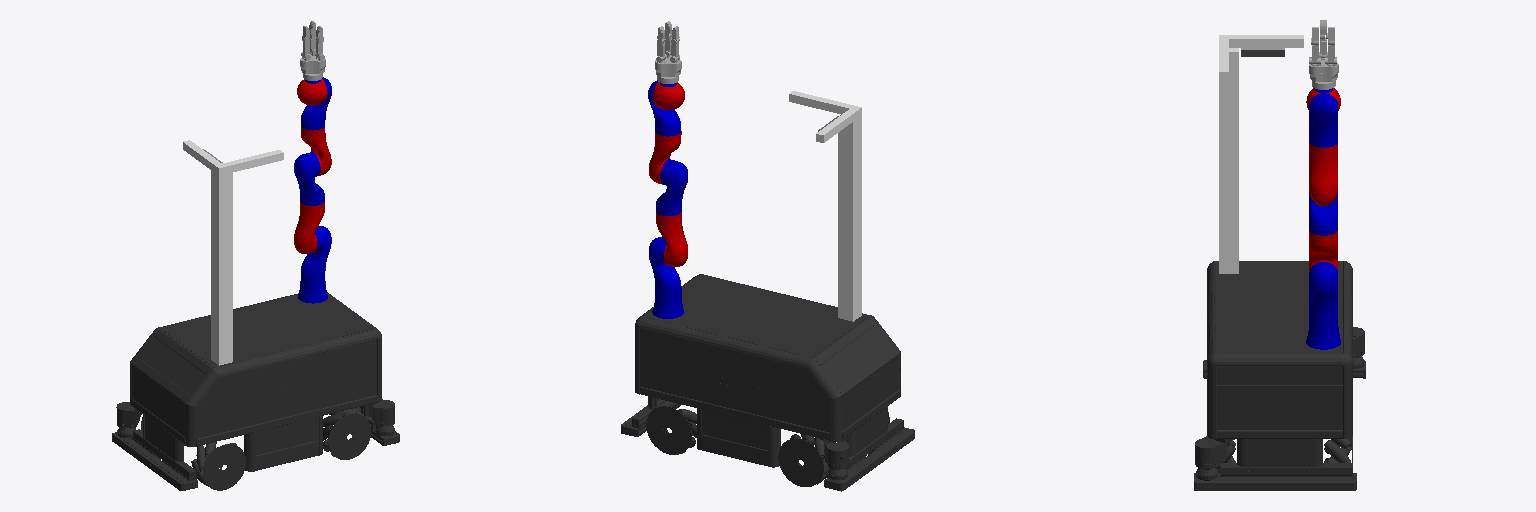
--- Facts derived from the render (not from the file) ---
The picture shows the robot from 3 angles, left to right: view 1: azimuth 30°, elevation 25°; view 2: azimuth 150°, elevation 25°; view 3: azimuth 270°, elevation 25°; orthographic projection.
Model omnirob with 38 links and 37 joints (15 revolute, 1 continuous, 2 prismatic, 19 fixed), rooted at base_link, posed all joints at 0.
Visible links, largest first — view 1: base_box_link, pole_base_link, lbr_3_link, lbr_2_link, lbr_1_link, pole_top_link, lbr_4_link, lbr_5_link, lbr_0_link, lbr_6_link; view 2: base_box_link, pole_base_link, lbr_3_link, lbr_2_link, lbr_1_link, lbr_4_link, lbr_5_link, pole_top_link, lbr_0_link, lbr_6_link, pole_top2_link; view 3: base_box_link, pole_base_link, lbr_1_link, lbr_4_link, lbr_5_link, lbr_3_link, lbr_0_link, lbr_2_link, pole_top2_link, camera_link.
Link boxes in pixels (x1=…): base_box_link: x1=112, y1=292, x2=399, y2=490; pole_base_link: x1=211, y1=171, x2=232, y2=365; lbr_3_link: x1=294, y1=152, x2=324, y2=205; lbr_2_link: x1=294, y1=202, x2=324, y2=253; lbr_1_link: x1=301, y1=226, x2=331, y2=280; pole_top_link: x1=215, y1=150, x2=283, y2=175; lbr_4_link: x1=301, y1=127, x2=331, y2=175; lbr_5_link: x1=301, y1=77, x2=331, y2=130; lbr_0_link: x1=298, y1=277, x2=327, y2=303; lbr_6_link: x1=297, y1=79, x2=327, y2=105; base_box_link: x1=621, y1=274, x2=914, y2=491; pole_base_link: x1=838, y1=116, x2=861, y2=321; lbr_3_link: x1=656, y1=159, x2=687, y2=215; lbr_2_link: x1=656, y1=212, x2=687, y2=266; lbr_1_link: x1=649, y1=237, x2=680, y2=295; lbr_4_link: x1=649, y1=131, x2=681, y2=184; lbr_5_link: x1=648, y1=80, x2=680, y2=136; pole_top_link: x1=789, y1=91, x2=861, y2=117; lbr_0_link: x1=652, y1=288, x2=683, y2=318; lbr_6_link: x1=653, y1=82, x2=684, y2=109; pole_top2_link: x1=816, y1=109, x2=857, y2=142; base_box_link: x1=1194, y1=261, x2=1365, y2=490; pole_base_link: x1=1219, y1=48, x2=1238, y2=273; lbr_1_link: x1=1309, y1=262, x2=1337, y2=323; lbr_4_link: x1=1309, y1=143, x2=1337, y2=205; lbr_5_link: x1=1309, y1=93, x2=1337, y2=147; lbr_3_link: x1=1309, y1=192, x2=1337, y2=235; lbr_0_link: x1=1306, y1=317, x2=1340, y2=349; lbr_2_link: x1=1309, y1=231, x2=1337, y2=271; pole_top2_link: x1=1229, y1=35, x2=1303, y2=47; camera_link: x1=1241, y1=42, x2=1284, y2=56.
Bounding box of the posed robot: 1.2 × 0.712 × 2.1 m (x, y, z).
Meshes: 13 distinct files referenced, 19 mesh visuals loaded (13 binary STL).

URDF robot description (omnirob):
<?xml version="1.0" ?>
<!-- =================================================================================== -->
<!-- |    This document was autogenerated by xacro from omnirob_lbr_sdh2.xacro         | -->
<!-- |    EDITING THIS FILE BY HAND IS NOT RECOMMENDED                                 | -->
<!-- =================================================================================== -->
<robot name="omnirob" xmlns:controller="http://playerstage.sourceforge.net/gazebo/xmlschema/#controller" xmlns:interface="http://playerstage.sourceforge.net/gazebo/xmlschema/#interface" xmlns:sensor="http://playerstage.sourceforge.net/gazebo/xmlschema/#sensor" xmlns:xacro="http://ros.org/wiki/xacro">
  <material name="Blue">
    <color rgba="0.0 0.0 0.8 1.0"/>
  </material>
  <material name="Green">
    <color rgba="0.0 0.8 0.0 1.0"/>
  </material>
  <material name="Grey">
    <color rgba="0.7 0.7 0.7 1.0"/>
  </material>
  <material name="Grey2">
    <color rgba="0.9 0.9 0.9 1.0"/>
  </material>
  <material name="Red">
    <color rgba="0.8 0.0 0.0 1.0"/>
  </material>
  <material name="White">
    <color rgba="1.0 1.0 1.0 1.0"/>
  </material>
  <material name="Black">
    <color rgba="0.0 0.0 0.0 1.0"/>
  </material>
  <material name="pole_gray">
    <color rgba="0.9 0.9 0.9 1.0"/>
  </material>
  <material name="Schunk/LightGrey">
    <color rgba="0.7 0.7 0.7 1.0"/>
  </material>
  <material name="Schunk/DarkGrey">
    <color rgba="0.4 0.4 0.4 1.0"/>
  </material>
  <material name="Schunk/Black">
    <color rgba="0.0 0.0 0.0 1.0"/>
  </material>
  <material name="Schunk/DarkGolden">
    <color rgba="0.4 0.4 0.3 1.0"/>
  </material>
  <material name="Schunk/Blue">
    <color rgba="0.0 0.0 0.8 1.0"/>
  </material>
  <material name="asus_xtion_gray">
    <color rgba="0.6 0.6 0.6 1.0"/>
  </material>
  <material name="Gray">
    <color rgba="0.25 0.25 0.25 1.0"/>
  </material>
  
   <link name="base_link">
    <visual>
      <geometry>
        <sphere radius="0.0"/>
      </geometry>
      <material name="blue">
        <color rgba="0.0 0.0 0.8 1.0"/>
      </material>
    </visual>
  </link>
  
  
   <link name="base_x_link">
    <visual>
      <geometry>
        <sphere radius="0.0"/>
      </geometry>
      <material name="blue">
        <color rgba="0.0 0.0 0.8 1.0"/>
      </material>
    </visual>
  </link>
  
  
  <joint name="base_x_joint" type="prismatic">
    <parent link="base_link"/>
    <child link="base_x_link"/>
	<limit effort="1000.0" lower="-100.0" upper="100.0" velocity="0.5"/> 
	<axis xyz="1 0 0"/>
	<!-- <origin rpy="0 1.57075 0" xyz="0 0 0"/> -->
  </joint>
  
  
   <link name="base_y_link">
    <visual>
      <geometry>
        <sphere radius="0.0"/>
      </geometry>
      <material name="blue">
        <color rgba="0.0 0.0 0.8 1.0"/>
      </material>
    </visual>
  </link>
  
  
  <joint name="base_y_joint" type="prismatic">
    <parent link="base_x_link"/>
    <child link="base_y_link"/>
	<axis xyz="0 1 0"/>
	<limit effort="1000.0" lower="-100.0" upper="100.0" velocity="0.5"/> 
	<!-- <origin rpy="-1.57075 0 0" xyz="0 0 0"/> -->
  </joint>
  
  
   <link name="platform_link">
    <visual>
      <geometry>
        <sphere radius="0.0"/>
      </geometry>
      <material name="blue">
        <color rgba="0.0 0.0 0.8 1.0"/>
      </material>
    </visual>
  </link>
  
  
  <joint name="platform_joint" type="fixed">
    <parent link="base_y_link"/>
    <child link="platform_link"/>
    <limit effort="1000.0" lower="-10.0" upper="10.0" velocity="0.5"/>
    <origin rpy="0 0 0" xyz="0 0 0"/>
  </joint>
  
  
  <link name="base_theta_link">
    <visual>
      <geometry>
        <sphere radius="0.0"/>
      </geometry>
      <material name="blue">
        <color rgba="0.0 0.0 0.8 1.0"/>
      </material>
    </visual>
  </link>
  
  
  <joint name="base_theta_joint" type="continuous">
    <origin rpy="0 0 0" xyz="0 0 0"/>
    <parent link="platform_link"/>
    <child link="base_theta_link"/>
    <axis xyz="0 0 1"/>
	<!-- <limit effort="1000.0" lower="-3.1415" upper="3.1415" velocity="1.9634"/> --> 
  </joint>
  
  
  
   <link name="base_box_link">
    <visual>
      <origin rpy="0 0 0" xyz="0 0 0"/>
      <geometry>
        <mesh filename="package://omnirob_description/meshes/omnirob_hull.stl" scale="0.001 0.001 0.001"/>
      </geometry>
      <material name="Gray"/>
    </visual>
    <collision>
      <origin rpy="0 0 0" xyz="0 0 0"/>
      <geometry>
        <mesh filename="package://omnirob_description/meshes/omnirob_hull_low_res.stl" scale="0.001 0.001 0.001"/>
      </geometry>
    </collision>
  </link>
  
  
   <joint name="base_box_joint" type="fixed">
    <parent link="base_theta_link"/>
    <child link="base_box_link"/>
    <limit effort="1000.0" lower="-10.0" upper="10.0" velocity="0.5"/>
    <origin rpy="0 0 0" xyz="0 0 0"/>
  </joint>
  
  
  <link name="laser_front_link">
        </link>
  <link name="laser_rear_link">
        </link>
  <joint name="laser_front_joint" type="fixed">
    <parent link="base_box_link"/>
    <child link="laser_front_link"/>
    <origin rpy="0 0 -0.78893" xyz="0.542477 -0.317722 0.13664"/>
  </joint>
  <joint name="laser_rear_joint" type="fixed">
    <parent link="base_box_link"/>
    <child link="laser_rear_link"/>
    <origin rpy="0 0 2.31624" xyz="-0.534443 0.32895 0.13664"/>
  </joint>
  <link name="lbr_0_link">
    <inertial>
      <origin rpy="0 0 0" xyz="0 0 0"/>
      <mass value="1.0"/>
      <inertia ixx="0.01" ixy="0" ixz="0" iyy="0.01" iyz="0" izz="0.01"/>
    </inertial>
    <visual>
      <origin rpy="0 0 0" xyz="0 0 0"/>
      <geometry>
        <mesh filename="package://omnirob_description/meshes/lbr0.stl"/>
      </geometry>
      <material name="Blue"/>
    </visual>
    <collision>
      <origin rpy="0 0 0" xyz="0 0 0"/>
      <geometry>
        <mesh filename="package://omnirob_description/meshes/lbr0_low_res.stl"/>
      </geometry>
    </collision>
  </link>
  <joint name="lbr_1_joint" type="revolute">
    <!--<origin xyz="0 0 0.14" rpy="0 0 -2.8407"/> -->
    <origin rpy="0 0 0" xyz="0 0 0.1105"/>
    <parent link="lbr_0_link"/>
    <child link="lbr_1_link"/>
    <axis xyz="0 0 1"/>
    <dynamics damping="25"/>
    <limit effort="200" lower="-2.9670" upper="2.9670" velocity="1.9634"/>
  </joint>
  <link name="lbr_1_link">
    <inertial>
      <origin rpy="0 0 0" xyz="0 0 0"/>
      <mass value="5.9907"/>
      <inertia ixx="0.01" ixy="0" ixz="0" iyy="0.01" iyz="0" izz="0.01"/>
    </inertial>
    <visual>
      <origin rpy="0 0 0" xyz="0 0 0"/>
      <geometry>
        <mesh filename="package://omnirob_description/meshes/lbr1.stl"/>
      </geometry>
      <material name="Blue"/>
    </visual>
    <collision>
      <origin rpy="0 0 0" xyz="0 0 0"/>
      <geometry>
        <mesh filename="package://omnirob_description/meshes/lbr1_low_res.stl"/>
      </geometry>
    </collision>
  </link>
  <joint name="lbr_2_joint" type="revolute">
    <origin rpy="1.5708 0 0" xyz="0 0 0.1915"/>
    <parent link="lbr_1_link"/>
    <child link="lbr_2_link"/>
    <axis xyz="0 0 1"/>
    <dynamics damping="25"/>
    <limit effort="200" lower="-2.0943" upper="2.0943" velocity="1.9634"/>
  </joint>
  <link name="lbr_2_link">
    <inertial>
      <origin rpy="0 0 0" xyz="0 0 0.002"/>
      <mass value="5.734939"/>
      <inertia ixx="0.03" ixy="0" ixz="0" iyy="0.03" iyz="0" izz="0.03"/>
    </inertial>
    <visual>
      <origin rpy="0 0 0" xyz="0 0 0.002"/>
      <geometry>
        <mesh filename="package://omnirob_description/meshes/lbr2.stl"/>
      </geometry>
      <material name="Red"/>
    </visual>
    <collision>
      <origin rpy="0 0 0" xyz="0 0 0.002"/>
      <geometry>
        <mesh filename="package://omnirob_description/meshes/lbr2_low_res.stl"/>
      </geometry>
    </collision>
  </link>
  <joint name="lbr_3_joint" type="revolute">
    <origin rpy="-1.5708 0 0" xyz="0 0.2085 0"/>
    <parent link="lbr_2_link"/>
    <child link="lbr_3_link"/>
    <axis xyz="0 0 1"/>
    <dynamics damping="25"/>
    <limit effort="100" lower="-2.9670" upper="2.9670" velocity="1.9634"/>
  </joint>
  <link name="lbr_3_link">
    <inertial>
      <origin rpy="0 0 0" xyz="0 -0.002 0"/>
      <mass value="4.214668"/>
      <inertia ixx="0.03" ixy="0" ixz="0" iyy="0.03" iyz="0" izz="0.03"/>
    </inertial>
    <visual>
      <origin rpy="0 0 0" xyz="0 -0.002 0"/>
      <geometry>
        <mesh filename="package://omnirob_description/meshes/lbr3.stl"/>
      </geometry>
      <material name="Blue"/>
    </visual>
    <collision>
      <origin rpy="0 0 0" xyz="0 -0.002 0"/>
      <geometry>
        <mesh filename="package://omnirob_description/meshes/lbr3_low_res.stl"/>
      </geometry>
    </collision>
  </link>
  <joint name="lbr_4_joint" type="revolute">
    <origin rpy="-1.5708 0 0" xyz="0 0 0.1915"/>
    <parent link="lbr_3_link"/>
    <child link="lbr_4_link"/>
    <axis xyz="0 0 1"/>
    <dynamics damping="25"/>
    <limit effort="100" lower="-2.0943" upper="2.0943" velocity="1.9634"/>
  </joint>
  <link name="lbr_4_link">
    <inertial>
      <origin rpy="0 0 0" xyz="0 0 0"/>
      <mass value="3.669819"/>
      <inertia ixx="0.03" ixy="0" ixz="0" iyy="0.03" iyz="0" izz="0.03"/>
    </inertial>
    <visual>
      <origin rpy="0 0 0" xyz="0 0 0"/>
      <geometry>
        <mesh filename="package://omnirob_description/meshes/lbr4.stl"/>
      </geometry>
      <material name="Red"/>
    </visual>
    <collision>
      <origin rpy="0 0 0" xyz="0 0 0"/>
      <geometry>
        <mesh filename="package://omnirob_description/meshes/lbr4_low_res.stl"/>
      </geometry>
    </collision>
  </link>
  <joint name="lbr_5_joint" type="revolute">
    <origin rpy="1.5708 0 0" xyz="0 -0.2085 0"/>
    <parent link="lbr_4_link"/>
    <child link="lbr_5_link"/>
    <axis xyz="0 0 1"/>
    <dynamics damping="25"/>
    <limit effort="100" lower="-2.9670" upper="2.9670" velocity="3.1415926"/>
  </joint>
  <link name="lbr_5_link">
    <inertial>
      <origin rpy="0 0 0" xyz="0 0 0"/>
      <mass value="2.313272"/>
      <inertia ixx="0.03" ixy="0" ixz="0" iyy="0.03" iyz="0" izz="0.03"/>
    </inertial>
    <visual>
      <origin rpy="0 0 0" xyz="0 0 0"/>
      <geometry>
        <mesh filename="package://omnirob_description/meshes/lbr5.stl"/>
      </geometry>
      <material name="Blue"/>
    </visual>
    <collision>
      <origin rpy="0 0 0" xyz="0 0 0"/>
      <geometry>
        <mesh filename="package://omnirob_description/meshes/lbr5_low_res.stl"/>
      </geometry>
    </collision>
  </link>
  <joint name="lbr_6_joint" type="revolute">
    <origin rpy="1.5708 0 0" xyz="0 0 0.1815"/>
    <parent link="lbr_5_link"/>
    <child link="lbr_6_link"/>
    <axis xyz="0 0 1"/>
    <dynamics damping="25"/>
    <limit effort="30" lower="-2.0943951" upper="2.0943951" velocity="1.9634"/>
  </joint>
  <link name="lbr_6_link">
    <inertial>
      <origin rpy="0 0 0" xyz="0 0 0"/>
      <mass value="2.057856"/>
      <inertia ixx="0.01" ixy="0" ixz="0" iyy="0.01" iyz="0" izz="0.01"/>
    </inertial>
    <visual>
      <origin rpy="0 0 0" xyz="0 0 -0.046"/>
      <geometry>
        <mesh filename="package://omnirob_description/meshes/lbr6.stl"/>
      </geometry>
      <material name="Red"/>
    </visual>
    <collision>
      <origin rpy="0 0 0" xyz="0 0 -0.046"/>
      <geometry>
        <mesh filename="package://omnirob_description/meshes/lbr6_low_res.stl"/>
      </geometry>
    </collision>
  </link>
  <joint name="lbr_7_joint" type="revolute">
    <origin rpy="-1.5708 0 0" xyz="0 0.057 0"/>
    <parent link="lbr_6_link"/>
    <child link="lbr_7_link"/>
    <axis xyz="0 0 1"/>
    <dynamics damping="25"/>
    <limit effort="30" lower="-2.9670" upper="2.9670" velocity="1.9634"/>
  </joint>
  <link name="lbr_7_link">
    <inertial>
      <origin rpy="0 0 0" xyz="0 0 0"/>
      <mass value="1.120198"/>
      <inertia ixx="0.01" ixy="0" ixz="0" iyy="0.01" iyz="0" izz="0.01"/>
    </inertial>
    <visual>
      <origin rpy="0 0 0" xyz="0 0 0"/>
      <geometry>
        <mesh filename="package://omnirob_description/meshes/lbr7.stl"/>
      </geometry>
      <material name="Blue"/>
    </visual>
    <collision>
      <origin rpy="0 0 0" xyz="0 0 0"/>
      <geometry>
        <mesh filename="package://omnirob_description/meshes/lbr7_low_res.stl"/>
      </geometry>
    </collision>
  </link>
  <joint name="flange" type="fixed">
    <parent link="lbr_7_link"/>
    <child link="lbr_flange_link"/>
    <origin rpy="0 0 0" xyz="0 0 0.0195"/>
  </joint>
  <link name="lbr_flange_link">
	<visual>
      <geometry>
        <sphere radius="0.01"/>
      </geometry>
      <material name="blue">
        <color rgba="0.0 0.0 0.8 1.0"/>
      </material>
    </visual>
	<collision>
      <geometry>
        <sphere radius="0.01"/>
      </geometry>
    </collision>
  </link>
  <joint name="omnirob_base_joint" type="fixed">
    <origin rpy="0 0 -1.5708" xyz="0.42 0.18 0.655"/>
    <parent link="base_box_link"/>
    <child link="lbr_0_link"/>
  </joint>
  <joint name="pole_base_joint" type="fixed">
    <origin rpy="0 0 0" xyz="-0.35 -0.25 0.64"/>
    <parent link="base_box_link"/>
    <child link="pole_base_link"/>
  </joint>
  <link name="pole_base_link">
    <visual>
      <geometry>
        <box size="0.08 0.08 1.01"/>
      </geometry>
      <origin xyz="0.04 0.04 0.505"/>
      <material name="pole_gray"/>
    </visual>
    <collision>
      <geometry>
        <box size="0.08 0.08 1.01"/>
      </geometry>
      <origin xyz="0.04 0.04 0.505"/>
    </collision>
  </link>
  <joint name="pole_top_joint" type="fixed">
    <parent link="pole_base_link"/>
    <child link="pole_top_link"/>
    <origin rpy="0 0 0" xyz="0 0 1.01"/>
  </joint>
  <link name="pole_top_link">
    <visual>
      <geometry>
        <box size="0.36 0.04 0.04"/>
      </geometry>
      <origin xyz="0.18 0.02 0.02"/>
      <material name="pole_gray"/>
    </visual>
    <collision>
      <geometry>
        <box size="0.36 0.04 0.04"/>
      </geometry>
      <origin xyz="0.18 0.02 0.02"/>
    </collision>
  </link>
  <joint name="pole_top2_joint" type="fixed">
    <parent link="pole_base_link"/>
    <child link="pole_top2_link"/>
    <origin rpy="0 0 1.57" xyz="0.04 0.04 1.01"/>
  </joint>
  <link name="pole_top2_link">
    <visual>
      <geometry>
        <box size="0.31 0.04 0.04"/>
      </geometry>
      <origin xyz="0.155 0.02 0.02"/>
      <material name="pole_gray"/>
    </visual>
    <collision>
      <geometry>
        <box size="0.31 0.04 0.04"/>
      </geometry>
      <origin xyz="0.155 0.02 0.02"/>
    </collision>
  </link>
  <joint name="camera_base_joint" type="fixed">
    <parent link="pole_top2_link"/>
    <child link="camera_link"/>
    <origin rpy="0 0.5 -1.57" xyz="0.14 -0.01 0"/>
  </joint>
  <link name="camera_depth_frame"/>
  <link name="camera_rgb_frame"/>
  <link name="camera_depth_optical_frame"/>
  <link name="camera_rgb_optical_frame"/>
  <link name="camera_link">
    <visual>
      <geometry>
        <box size="0.04 0.18 0.048"/>
      </geometry>
      <origin xyz="0 0 0"/>
      <material name="asus_xtion_gray"/>
    </visual>
    <collision>
      <geometry>
        <box size="0.04 0.18 0.048"/>
      </geometry>
      <origin xyz="0 0 0"/>
    </collision>
  </link>
  <joint name="camera_joint1" type="fixed">
    <parent link="camera_link"/>
    <child link="camera_depth_frame"/>
    <origin rpy="0 0 0" xyz="0 0.049 0.013"/>
  </joint>
  <joint name="camera_joint2" type="fixed">
    <parent link="camera_link"/>
    <child link="camera_rgb_frame"/>
    <origin rpy="0 0 0" xyz="0 0.022 0.013"/>
  </joint>
  <joint name="camera_joint3" type="fixed">
    <parent link="camera_depth_frame"/>
    <child link="camera_depth_optical_frame"/>
    <origin rpy="-1.57 0 -1.57" xyz="0 0 0"/>
  </joint>
  <joint name="camera_joint4" type="fixed">
    <parent link="camera_rgb_frame"/>
    <child link="camera_rgb_optical_frame"/>
    <origin rpy="-1.57 0 -1.57" xyz="0 0 0"/>
  </joint>
  
  	<link name="sdh_adapter_link">
		<visual>
			<geometry>
				<cylinder length="0.027" radius="0.05" />
			</geometry>
			<material name="Grey" />
		</visual>
		<collision>
			<geometry>
				<cylinder length="0.027" radius="0.05" />
			</geometry>
		</collision>
	</link>

	<joint name="adapter_lbr_joint" type="fixed">
		<!--parent link="lbr_flange_link" / -->
		<parent link="lbr_flange_link" />
		<child link="sdh_adapter_link" />
		<!--insert_block name="origin"/ -->
		<!--origin xyz="0.0 0.0 0.0725" rpy="0 0 0"/ -->
		<!--<origin rpy="0 0 0" xyz="0.0 0.005 0.171"/> -->
		<origin rpy="0 0 0" xyz="0.0 0.0 0.0135" />
	</joint>
	
	<joint name="adapter_sdh_joint" type="fixed">
		<!--parent link="lbr_flange_link" / -->
		<parent link="sdh_adapter_link" />
		<child link="sdh2_palm_link" />
		<!--insert_block name="origin"/ -->
		<!--origin xyz="0.0 0.0 0.0725" rpy="0 0 0"/ -->
		<!--<origin rpy="0 0 0" xyz="0.0 0.005 0.171"/> -->
		<origin rpy="0 0 1.57079632679" xyz="0.0 0.0 0.0135" />
	</joint>
  
  <link name="sdh2_palm_link">
    <inertial>
      <origin rpy="0 0 0" xyz="0 0 0"/>
      <mass value="1"/>
      <inertia ixx="0.01" ixy="0" ixz="0" iyy="0.01" iyz="0" izz="0.01"/>
    </inertial>
    <visual>
      <origin rpy="0 0 0" xyz="0 0 0"/>
      <geometry>
        <mesh filename="package://sdh2_description/meshes/palm.stl"/>
      </geometry>
      <material name="Schunk/LightGrey"/>
    </visual>
    <collision>
      <origin rpy="0 0 0" xyz="0 0 0"/>
      <geometry>
        <mesh filename="package://sdh2_description/meshes/palm_low_res.stl"/>
      </geometry>
    </collision>
  </link>
  <joint name="sdh2_grasp_joint" type="fixed">
    <origin rpy="0 0 0" xyz="-0.02 0 0.15"/>
    <parent link="sdh2_palm_link"/>
    <child link="sdh2_grasp_link"/>
  </joint>
  <link name="sdh2_grasp_link"/>
  <joint name="sdh2_tip_joint" type="fixed">
    <origin rpy="0 0 0" xyz="0 0 0.22"/>
    <parent link="sdh2_palm_link"/>
    <child link="sdh2_tip_link"/>
  </joint>
  <link name="sdh2_tip_link"/>
  <joint name="sdh2_knuckle_joint" type="revolute">
    <origin rpy="0 0 3.14159265" xyz="0.01905 0.033 0.0745"/>
    <parent link="sdh2_palm_link"/>
    <child link="sdh2_finger_11_link"/>
    <axis xyz="0 0 1"/>
    <dynamics damping="1"/>
    <limit effort="100" lower="0" upper="1.570796327" velocity="5"/>
  </joint>
  <link name="sdh2_finger_11_link">
    <inertial>
      <origin rpy="0 0 0" xyz="0 0 0"/>
      <mass value="0.1"/>
      <inertia ixx="0.01" ixy="0" ixz="0" iyy="0.01" iyz="0" izz="0.01"/>
    </inertial>
    <visual>
      <origin rpy="0 0 0" xyz="0 0 0"/>
      <geometry>
        <mesh filename="package://sdh2_description/meshes/knuckle.stl"/>
      </geometry>
      <material name="Schunk/LightGrey"/>
    </visual>
    <collision>
      <origin rpy="0 0 0" xyz="0 0 0"/>
      <geometry>
        <mesh filename="package://sdh2_description/meshes/knuckle_low_res.stl"/>
      </geometry>
    </collision>
  </link>
  <joint name="sdh2_finger_12_joint" type="revolute">
    <origin rpy="0 0 0" xyz="0 0 0.0165"/>
    <parent link="sdh2_finger_11_link"/>
    <child link="sdh2_finger_12_link"/>
    <axis xyz="0 1 0"/>
    <dynamics damping="1"/>
    <limit effort="100" lower="-1.570796327" upper="1.570796327" velocity="5"/>
  </joint>
  <link name="sdh2_finger_12_link">
    <inertial>
      <origin rpy="0 0 0" xyz="0 0 0"/>
      <mass value="0.1"/>
      <inertia ixx="0.01" ixy="0" ixz="0" iyy="0.01" iyz="0" izz="0.01"/>
    </inertial>
    <visual>
      <origin rpy="0 0 0" xyz="0 0 0"/>
      <geometry>
        <mesh filename="package://sdh2_description/meshes/finger.stl"/>
      </geometry>
      <material name="Schunk/LightGrey"/>
    </visual>
    <collision>
      <origin rpy="0 0 0" xyz="0 0 0"/>
      <geometry>
        <mesh filename="package://sdh2_description/meshes/finger_low_res.stl"/>
      </geometry>
    </collision>
  </link>
  <joint name="sdh2_finger_13_joint" type="revolute">
    <origin rpy="0 0 0" xyz="0 0 0.0865"/>
    <parent link="sdh2_finger_12_link"/>
    <child link="sdh2_finger_13_link"/>
    <axis xyz="0 1 0"/>
    <dynamics damping="1"/>
    <limit effort="100" lower="-1.570796327" upper="1.570796327" velocity="5"/>
  </joint>
  <link name="sdh2_finger_13_link">
    <inertial>
      <origin rpy="0 0 0" xyz="0 0 0"/>
      <mass value="0.1"/>
      <inertia ixx="0.01" ixy="0" ixz="0" iyy="0.01" iyz="0" izz="0.01"/>
    </inertial>
    <visual>
      <origin rpy="0 0 0" xyz="0 0 0"/>
      <geometry>
        <mesh filename="package://sdh2_description/meshes/finger_tip.stl"/>
      </geometry>
      <material name="Schunk/LightGrey"/>
    </visual>
    <collision>
      <origin rpy="0 0 0" xyz="0 0 0"/>
      <geometry>
        <mesh filename="package://sdh2_description/meshes/finger_tip_low_res.stl"/>
      </geometry>
    </collision>
  </link>
  <joint name="sdh2_finger_21_joint" type="revolute">
    <mimic joint="sdh2_knuckle_joint" multiplier="1" offset="0"/>
    <origin rpy="0 0 3.14159265" xyz="0.01905 -0.033 0.0745"/>
    <parent link="sdh2_palm_link"/>
    <child link="sdh2_finger_21_link"/>
    <axis xyz="0 0 -1"/>
    <dynamics damping="1"/>
    <limit effort="100" lower="0" upper="1.570796327" velocity="5"/>
  </joint>
  <link name="sdh2_finger_21_link">
    <inertial>
      <origin rpy="0 0 0" xyz="0 0 0"/>
      <mass value="0.1"/>
      <inertia ixx="0.01" ixy="0" ixz="0" iyy="0.01" iyz="0" izz="0.01"/>
    </inertial>
    <visual>
      <origin rpy="0 0 0" xyz="0 0 0"/>
      <geometry>
        <mesh filename="package://sdh2_description/meshes/knuckle.stl"/>
      </geometry>
      <material name="Schunk/LightGrey"/>
    </visual>
    <collision>
      <origin rpy="0 0 0" xyz="0 0 0"/>
      <geometry>
        <mesh filename="package://sdh2_description/meshes/knuckle_low_res.stl"/>
      </geometry>
    </collision>
  </link>
  <joint name="sdh2_finger_22_joint" type="revolute">
    <origin rpy="0 0 0" xyz="0 0 0.0165"/>
    <parent link="sdh2_finger_21_link"/>
    <child link="sdh2_finger_22_link"/>
    <axis xyz="0 1 0"/>
    <dynamics damping="1"/>
    <limit effort="100" lower="-1.570796327" upper="1.570796327" velocity="5"/>
  </joint>
  <link name="sdh2_finger_22_link">
    <inertial>
      <origin rpy="0 0 0" xyz="0 0 0"/>
      <mass value="0.1"/>
      <inertia ixx="0.01" ixy="0" ixz="0" iyy="0.01" iyz="0" izz="0.01"/>
    </inertial>
    <visual>
      <origin rpy="0 0 0" xyz="0 0 0"/>
      <geometry>
        <mesh filename="package://sdh2_description/meshes/finger.stl"/>
      </geometry>
      <material name="Schunk/LightGrey"/>
    </visual>
    <collision>
      <origin rpy="0 0 0" xyz="0 0 0"/>
      <geometry>
        <mesh filename="package://sdh2_description/meshes/finger_low_res.stl"/>
      </geometry>
    </collision>
  </link>
  <joint name="sdh2_finger_23_joint" type="revolute">
    <origin rpy="0 0 0" xyz="0 0 0.0865"/>
    <parent link="sdh2_finger_22_link"/>
    <child link="sdh2_finger_23_link"/>
    <axis xyz="0 1 0"/>
    <dynamics damping="1"/>
    <limit effort="100" lower="-1.570796327" upper="1.570796327" velocity="5"/>
  </joint>
  <link name="sdh2_finger_23_link">
    <inertial>
      <origin rpy="0 0 0" xyz="0 0 0"/>
      <mass value="0.1"/>
      <inertia ixx="0.01" ixy="0" ixz="0" iyy="0.01" iyz="0" izz="0.01"/>
    </inertial>
    <visual>
      <origin rpy="0 0 0" xyz="0 0 0"/>
      <geometry>
        <mesh filename="package://sdh2_description/meshes/finger_tip.stl"/>
      </geometry>
      <material name="Schunk/LightGrey"/>
    </visual>
    <collision>
      <origin rpy="0 0 0" xyz="0 0 0"/>
      <geometry>
        <mesh filename="package://sdh2_description/meshes/finger_tip_low_res.stl"/>
      </geometry>
    </collision>
  </link>
  <joint name="sdh2_thumb_1_joint" type="fixed">
    <origin rpy="0 0 0" xyz="-0.03811 0 0.0745 "/>
    <parent link="sdh2_palm_link"/>
    <child link="sdh2_thumb_1_link"/>
  </joint>
  <link name="sdh2_thumb_1_link">
    <inertial>
      <origin rpy="0 0 0" xyz="0 0 0"/>
      <mass value="0.1"/>
      <inertia ixx="0.01" ixy="0" ixz="0" iyy="0.01" iyz="0" izz="0.01"/>
    </inertial>
    <visual>
      <origin rpy="0 0 0" xyz="0 0 0"/>
      <geometry>
        <mesh filename="package://sdh2_description/meshes/knuckle.stl"/>
      </geometry>
      <material name="Schunk/LightGrey"/>
    </visual>
    <collision>
      <origin rpy="0 0 0" xyz="0 0 0"/>
      <geometry>
        <mesh filename="package://sdh2_description/meshes/knuckle_low_res.stl"/>
      </geometry>
    </collision>
  </link>
  <joint name="sdh2_thumb_2_joint" type="revolute">
    <origin rpy="0 0 0" xyz="0 0 0.0165"/>
    <parent link="sdh2_thumb_1_link"/>
    <child link="sdh2_thumb_2_link"/>
    <axis xyz="0 1 0"/>
    <dynamics damping="1"/>
    <limit effort="100" lower="-1.570796327" upper="1.570796327" velocity="5"/>
  </joint>
  <link name="sdh2_thumb_2_link">
    <inertial>
      <origin rpy="0 0 0" xyz="0 0 0"/>
      <mass value="0.1"/>
      <inertia ixx="0.01" ixy="0" ixz="0" iyy="0.01" iyz="0" izz="0.01"/>
    </inertial>
    <visual>
      <origin rpy="0 0 0" xyz="0 0 0"/>
      <geometry>
        <mesh filename="package://sdh2_description/meshes/finger.stl"/>
      </geometry>
      <material name="Schunk/LightGrey"/>
    </visual>
    <collision>
      <origin rpy="0 0 0" xyz="0 0 0"/>
      <geometry>
        <mesh filename="package://sdh2_description/meshes/finger_low_res.stl"/>
      </geometry>
    </collision>
  </link>
  <joint name="sdh2_thumb_3_joint" type="revolute">
    <origin rpy="0 0 0" xyz="0 0 0.0865"/>
    <parent link="sdh2_thumb_2_link"/>
    <child link="sdh2_thumb_3_link"/>
    <axis xyz="0 1 0"/>
    <dynamics damping="1"/>
    <limit effort="100" lower="-1.570796327" upper="1.570796327" velocity="5"/>
  </joint>
  <link name="sdh2_thumb_3_link">
    <inertial>
      <origin rpy="0 0 0" xyz="0 0 0"/>
      <mass value="0.1"/>
      <inertia ixx="0.01" ixy="0" ixz="0" iyy="0.01" iyz="0" izz="0.01"/>
    </inertial>
    <visual>
      <origin rpy="0 0 0" xyz="0 0 0"/>
      <geometry>
        <mesh filename="package://sdh2_description/meshes/finger_tip.stl"/>
      </geometry>
      <material name="Schunk/LightGrey"/>
    </visual>
    <collision>
      <origin rpy="0 0 0" xyz="0 0 0"/>
      <geometry>
        <mesh filename="package://sdh2_description/meshes/finger_tip_low_res.stl"/>
      </geometry>
    </collision>
  </link>
  <gazebo reference="sdh2_palm_link">
    <material>Schunk/LightGrey</material>
    <turnGravityOff>false</turnGravityOff>
  </gazebo>
  <gazebo reference="sdh2_finger_11_link">
    <material>Schunk/LightGrey</material>
    <turnGravityOff>false</turnGravityOff>
  </gazebo>
  <gazebo reference="sdh2_finger_12_link">
    <selfCollide>true</selfCollide>
    <sensor:contact name="sdh2_finger_12_contact_sensor">
      <geom>sdh2_finger_12_link_geom</geom>
      <updateRate>100.0</updateRate>
      <controller:gazebo_ros_bumper name="sdh2_finger_12_gazebo_ros_bumper_controller" plugin="libgazebo_ros_bumper.so">
        <alwaysOn>true</alwaysOn>
        <updateRate>100.0</updateRate>
        <frameName>sdh2_finger_12_link</frameName>
        <bumperTopicName>sdh2_finger_12_bumper</bumperTopicName>
        <interface:bumper name="sdh2_finger_12_bumper_iface"/>
      </controller:gazebo_ros_bumper>
    </sensor:contact>
    <material>Schunk/LightGrey</material>
    <turnGravityOff>false</turnGravityOff>
  </gazebo>
  <gazebo reference="sdh2_finger_13_link">
    <selfCollide>true</selfCollide>
    <sensor:contact name="sdh2_finger_13_contact_sensor">
      <geom>sdh2_finger_13_link_geom</geom>
      <updateRate>100.0</updateRate>
      <controller:gazebo_ros_bumper name="sdh2_finger_13_gazebo_ros_bumper_controller" plugin="libgazebo_ros_bumper.so">
        <alwaysOn>true</alwaysOn>
        <updateRate>100.0</updateRate>
        <frameName>sdh2_finger_13_link</frameName>
        <bumperTopicName>sdh2_finger_13_bumper</bumperTopicName>
        <interface:bumper name="sdh2_finger_13_bumper_iface"/>
      </controller:gazebo_ros_bumper>
    </sensor:contact>
    <material>Schunk/LightGrey</material>
  </gazebo>
  <gazebo reference="sdh2_finger_21_link">
    <material>Schunk/LightGrey</material>
    <turnGravityOff>false</turnGravityOff>
  </gazebo>
  <gazebo reference="sdh2_finger_22_link">
    <selfCollide>true</selfCollide>
    <sensor:contact name="sdh2_finger_22_contact_sensor">
      <geom>sdh2_finger_22_link_geom</geom>
      <updateRate>100.0</updateRate>
      <controller:gazebo_ros_bumper name="sdh2_finger_22_gazebo_ros_bumper_controller" plugin="libgazebo_ros_bumper.so">
        <alwaysOn>true</alwaysOn>
        <updateRate>100.0</updateRate>
        <frameName>sdh2_finger_22_link</frameName>
        <bumperTopicName>sdh2_finger_22_bumper</bumperTopicName>
        <interface:bumper name="sdh2_finger_22_bumper_iface"/>
      </controller:gazebo_ros_bumper>
    </sensor:contact>
    <material>Schunk/LightGrey</material>
    <turnGravityOff>false</turnGravityOff>
  </gazebo>
  <gazebo reference="sdh2_finger_23_link">
    <selfCollide>true</selfCollide>
    <sensor:contact name="sdh2_finger_23_contact_sensor">
      <geom>sdh2_finger_23_link_geom</geom>
      <updateRate>100.0</updateRate>
      <controller:gazebo_ros_bumper name="sdh2_finger_23_gazebo_ros_bumper_controller" plugin="libgazebo_ros_bumper.so">
        <alwaysOn>true</alwaysOn>
        <updateRate>100.0</updateRate>
        <frameName>sdh2_finger_23_link</frameName>
        <bumperTopicName>sdh2_finger_23_bumper</bumperTopicName>
        <interface:bumper name="sdh2_finger_23_bumper_iface"/>
      </controller:gazebo_ros_bumper>
    </sensor:contact>
    <material>Schunk/LightGrey</material>
  </gazebo>
  <gazebo reference="sdh2_thumb_1_link">
    <material>Schunk/LightGrey</material>
    <turnGravityOff>false</turnGravityOff>
  </gazebo>
  <gazebo reference="sdh2_thumb_2_link">
    <selfCollide>true</selfCollide>
    <sensor:contact name="sdh2_thumb_2_contact_sensor">
      <geom>sdh2_thumb_2_link_geom</geom>
      <updateRate>100.0</updateRate>
      <controller:gazebo_ros_bumper name="sdh2_thumb_2_gazebo_ros_bumper_controller" plugin="libgazebo_ros_bumper.so">
        <alwaysOn>true</alwaysOn>
        <updateRate>100.0</updateRate>
        <frameName>sdh2_thumb_2_link</frameName>
        <bumperTopicName>sdh2_thumb_2_bumper</bumperTopicName>
        <interface:bumper name="sdh2_thumb_2_bumper_iface"/>
      </controller:gazebo_ros_bumper>
    </sensor:contact>
    <material>Schunk/LightGrey</material>
    <turnGravityOff>false</turnGravityOff>
  </gazebo>
  <gazebo reference="sdh2_thumb_3_link">
    <selfCollide>true</selfCollide>
    <sensor:contact name="sdh2_thumb_3_contact_sensor">
      <geom>sdh2_thumb_3_link_geom</geom>
      <updateRate>100.0</updateRate>
      <controller:gazebo_ros_bumper name="sdh2_thumb_3_gazebo_ros_bumper_controller" plugin="libgazebo_ros_bumper.so">
        <alwaysOn>true</alwaysOn>
        <updateRate>100.0</updateRate>
        <frameName>sdh2_thumb_3_link</frameName>
        <bumperTopicName>sdh2_thumb_3_bumper</bumperTopicName>
        <interface:bumper name="sdh2_thumb_3_bumper_iface"/>
      </controller:gazebo_ros_bumper>
    </sensor:contact>
    <material>Schunk/LightGrey</material>
  </gazebo>
  <transmission name="sdh2_knuckle_trans" type="pr2_mechanism_model/SimpleTransmission">
    <actuator name="sdh2_knuckle_motor"/>
    <joint name="sdh2_finger_21_joint"/>
    <mechanicalReduction>1</mechanicalReduction>
  </transmission>
  <transmission name="sdh2_knuckle_trans" type="pr2_mechanism_model/SimpleTransmission">
    <actuator name="sdh2_knuckle_motor"/>
    <joint name="sdh2_knuckle_joint"/>
    <mechanicalReduction>1</mechanicalReduction>
  </transmission>
  <transmission name="sdh2_finger_12_trans" type="pr2_mechanism_model/SimpleTransmission">
    <actuator name="sdh2_finger_12_motor"/>
    <joint name="sdh2_finger_12_joint"/>
    <mechanicalReduction>1</mechanicalReduction>
  </transmission>
  <transmission name="sdh2_finger_13_trans" type="pr2_mechanism_model/SimpleTransmission">
    <actuator name="sdh2_finger_13_motor"/>
    <joint name="sdh2_finger_13_joint"/>
    <mechanicalReduction>1</mechanicalReduction>
  </transmission>
  <transmission name="sdh2_finger_22_trans" type="pr2_mechanism_model/SimpleTransmission">
    <actuator name="sdh2_finger_22_motor"/>
    <joint name="sdh2_finger_22_joint"/>
    <mechanicalReduction>1</mechanicalReduction>
  </transmission>
  <transmission name="sdh2_finger_23_trans" type="pr2_mechanism_model/SimpleTransmission">
    <actuator name="sdh2_finger_23_motor"/>
    <joint name="sdh2_finger_23_joint"/>
    <mechanicalReduction>1</mechanicalReduction>
  </transmission>
  <transmission name="sdh2_thumb_2_trans" type="pr2_mechanism_model/SimpleTransmission">
    <actuator name="sdh2_thumb_2_motor"/>
    <joint name="sdh2_thumb_2_joint"/>
    <mechanicalReduction>1</mechanicalReduction>
  </transmission>
  <transmission name="sdh2_thumb_3_trans" type="pr2_mechanism_model/SimpleTransmission">
    <actuator name="sdh2_thumb_3_motor"/>
    <joint name="sdh2_thumb_3_joint"/>
    <mechanicalReduction>1</mechanicalReduction>
  </transmission>
<!--   <joint name="sdh2_palm_joint" type="fixed"> -->
<!--     <origin rpy="0 0 0" xyz="0 0 0"/> -->
<!--     <parent link="lbr_flange_link"/> -->
<!--     <child link="sdh2_palm_link"/> -->
<!--   </joint>  -->
 
  
 
  
</robot>
